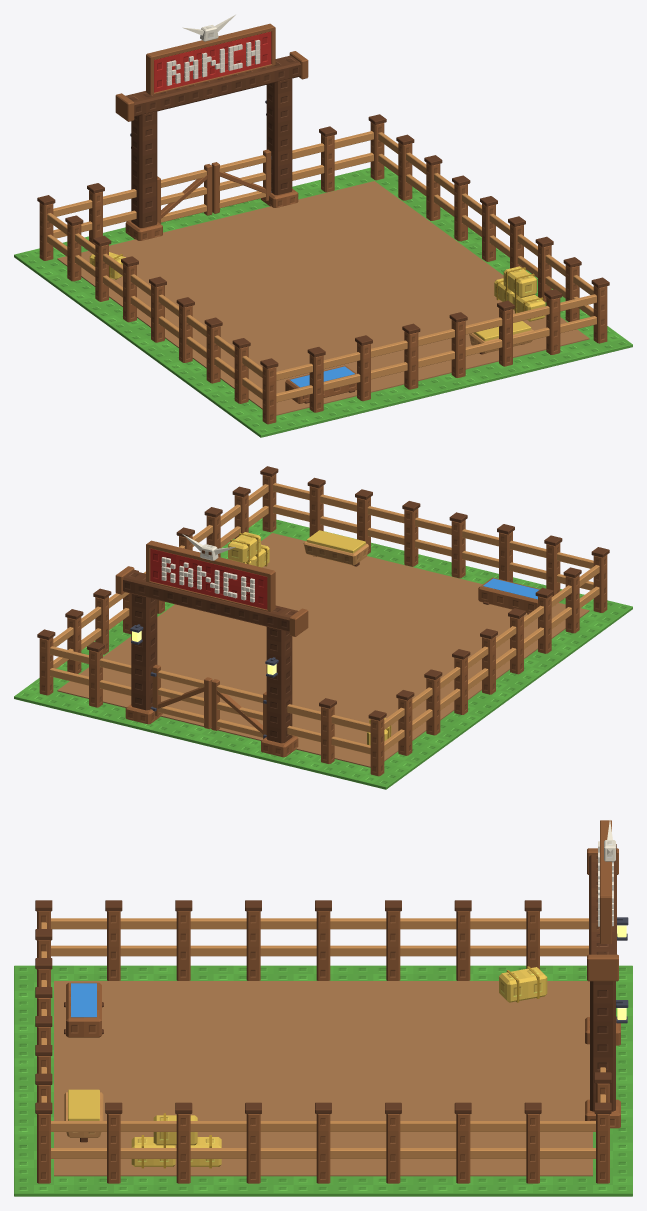
The model's file is Ranch.glb.
3 views of the same model, one above another, from view 1: azimuth 30°, elevation 25°; view 2: azimuth 150°, elevation 25°; view 3: azimuth 270°, elevation 25° (orthographic). The views are drawn at different scales.
Visible parts, largest first — view 1: Ranch_Floor, Ranch, Ranch_GateR, Ranch_GateL; view 2: Ranch_Floor, Ranch, Ranch_GateR, Ranch_GateL; view 3: Ranch_Floor, Ranch.
Boxes of the visible parts, box(x1,y1,x2,y2) form: Ranch_Floor: box(14, 166, 632, 437); Ranch: box(37, 14, 609, 424); Ranch_GateR: box(211, 149, 271, 213); Ranch_GateL: box(157, 164, 212, 223); Ranch_Floor: box(14, 518, 632, 789); Ranch: box(37, 466, 609, 776); Ranch_GateR: box(150, 664, 212, 728); Ranch_GateL: box(211, 679, 266, 739); Ranch_Floor: box(14, 965, 632, 1196); Ranch: box(35, 819, 628, 1183).
Size of the model in its own units: 27 by 13.75 by 31.
Materials: 2 (1 with a texture image).
